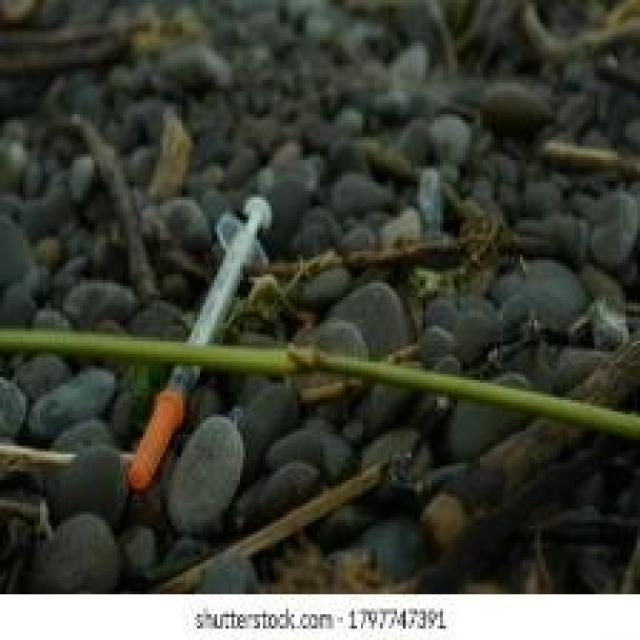syringe: (108, 189, 284, 479)
